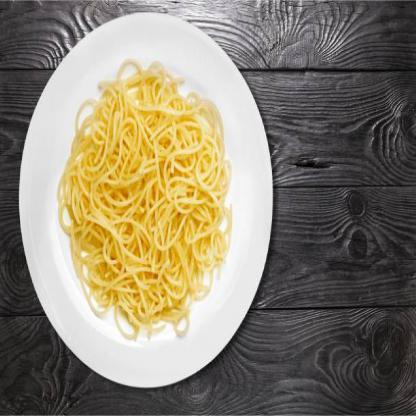Noodles: (57, 56, 233, 340)
